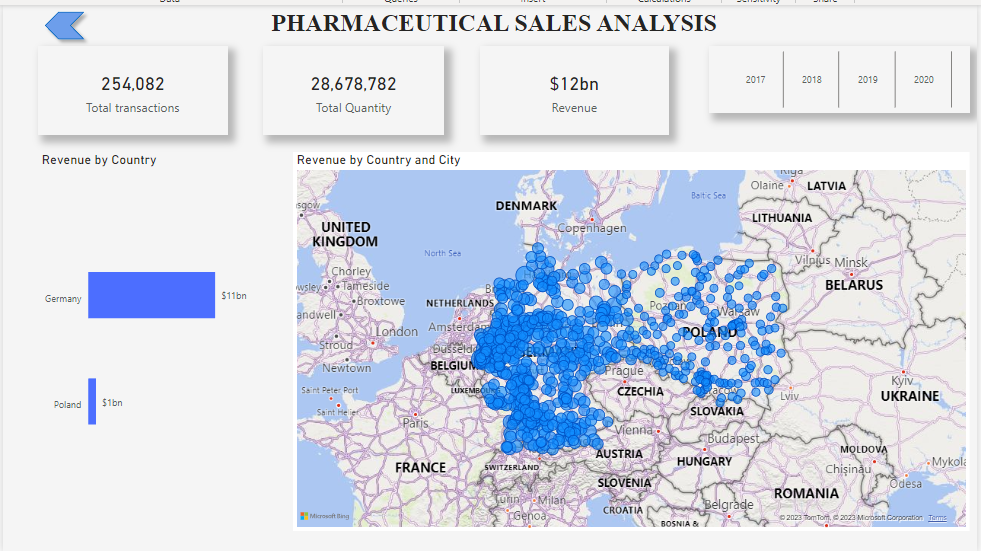

This screenshot's page, from the dashboard's own definition file:
{"tool":"powerbi","page":{"name":"Map Analysis","canvas":[1280,720],"ordinal":1},"visuals":[{"type":"card","fields":{"Values":["PharmData.Total transactions"]},"box":[45.4,53.7,249.1,117],"z":0},{"type":"card","fields":{"Values":["PharmData.Total Quantity"]},"box":[341.3,53.7,238.1,117],"z":1000},{"type":"card","fields":{"Values":["PharmData.Revenue"]},"box":[626.2,53.7,247.7,117],"z":2000},{"type":"slicer","fields":{"Values":["Calendar.Year"]},"box":[927.7,53.7,342.7,88.1],"z":3000},{"type":"textbox","box":[336,0,618.2,77.3],"z":4000},{"type":"map","fields":{"Category":["DimLocation.Country","DimLocation.City"],"Size":["PharmData.Revenue"]},"box":[381.2,192.7,889.1,498.2],"z":5000},{"type":"barChart","fields":{"Category":["DimLocation.Country"],"Y":["PharmData.Revenue"]},"box":[45.4,192.7,295.9,498.2],"z":6000},{"type":"shape","box":[45.4,0,70.2,53.7],"z":7000}]}

Visuals, with their boxes on the page's 1280x720 design canvas (x1, y1, x2, y2). These are canvas units, not pixel positions in the 981x551 screenshot, which may show the page scaled, cropped or inside an application window:
card - PharmData.Total transactions: x1=45, y1=54, x2=294, y2=171
card - PharmData.Total Quantity: x1=341, y1=54, x2=579, y2=171
card - PharmData.Revenue: x1=626, y1=54, x2=874, y2=171
slicer - Calendar.Year: x1=928, y1=54, x2=1270, y2=142
textbox: x1=336, y1=0, x2=954, y2=77
map - DimLocation.Country x DimLocation.City: x1=381, y1=193, x2=1270, y2=691
barChart - DimLocation.Country x PharmData.Revenue: x1=45, y1=193, x2=341, y2=691
shape: x1=45, y1=0, x2=116, y2=54
